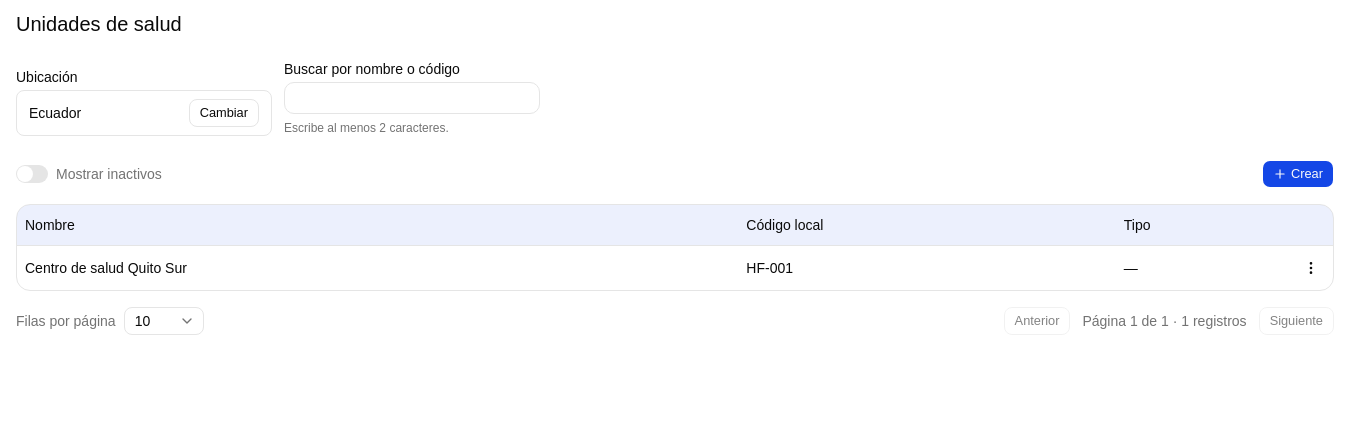
HealthFacilityListPage — toggle de inactivos (hallazgo C) › con rol ADMIN, escribir dos caracteres oculta el toggle y cambia la petición a /search
The width and height of the screenshot is (1351, 431).
Expected: the switch is shown, [16,165,48,183]
Type "ho" into the field labelled "Buscar por nombre o código".
click(412, 98); type("ho")  # box [284,82,540,114]
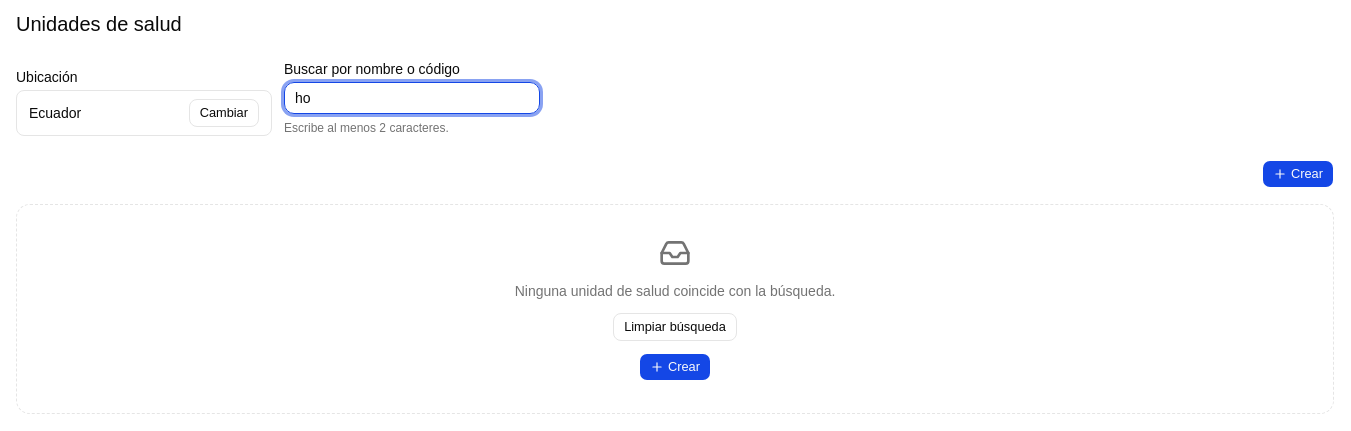
Expected: the switch is gone
